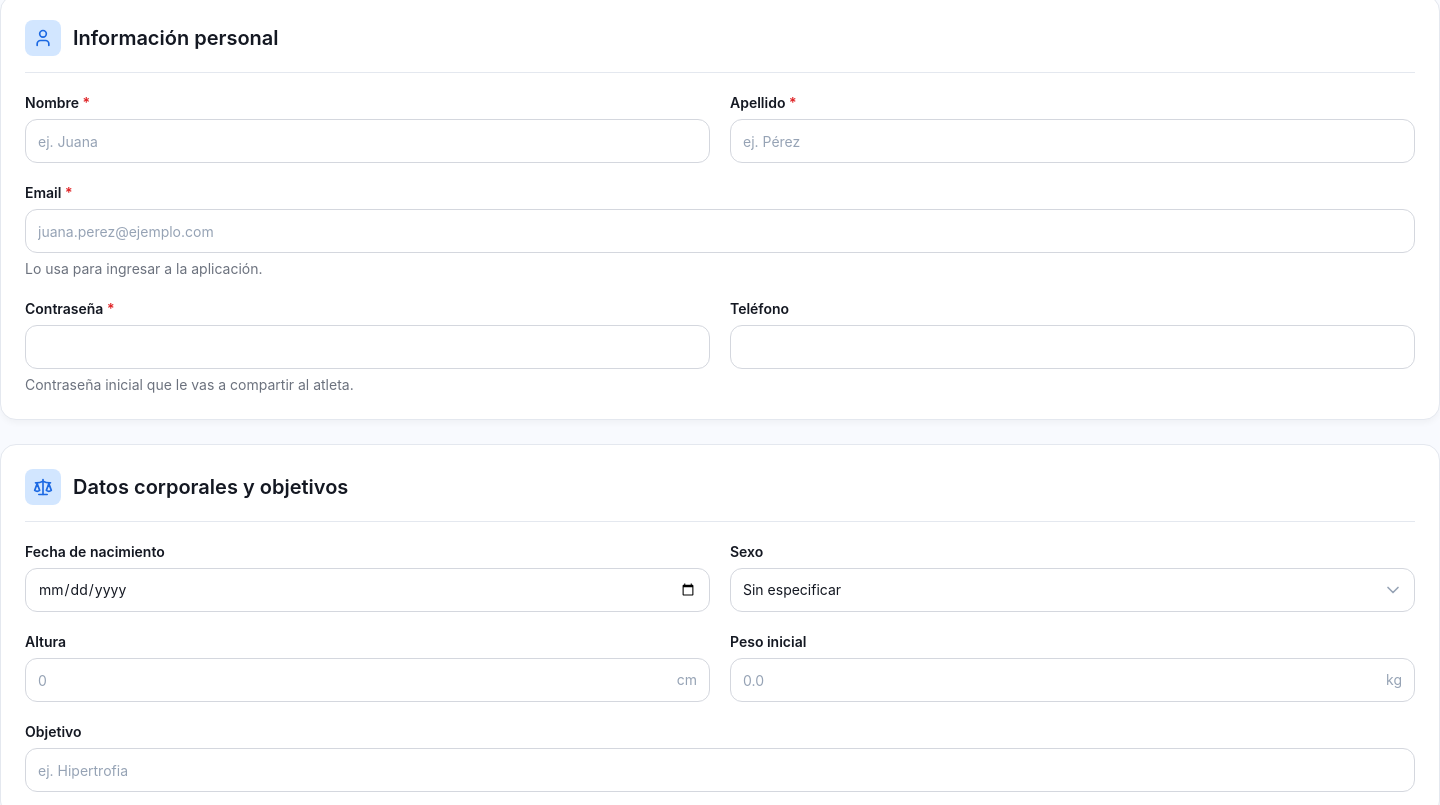
RegisterAthleteForm › deshabilita el botón mientras guarda
The width and height of the screenshot is (1440, 805).
Type " Juana " into the field labelled "Nombre *" at point(368, 141), box [25,119,710,163]
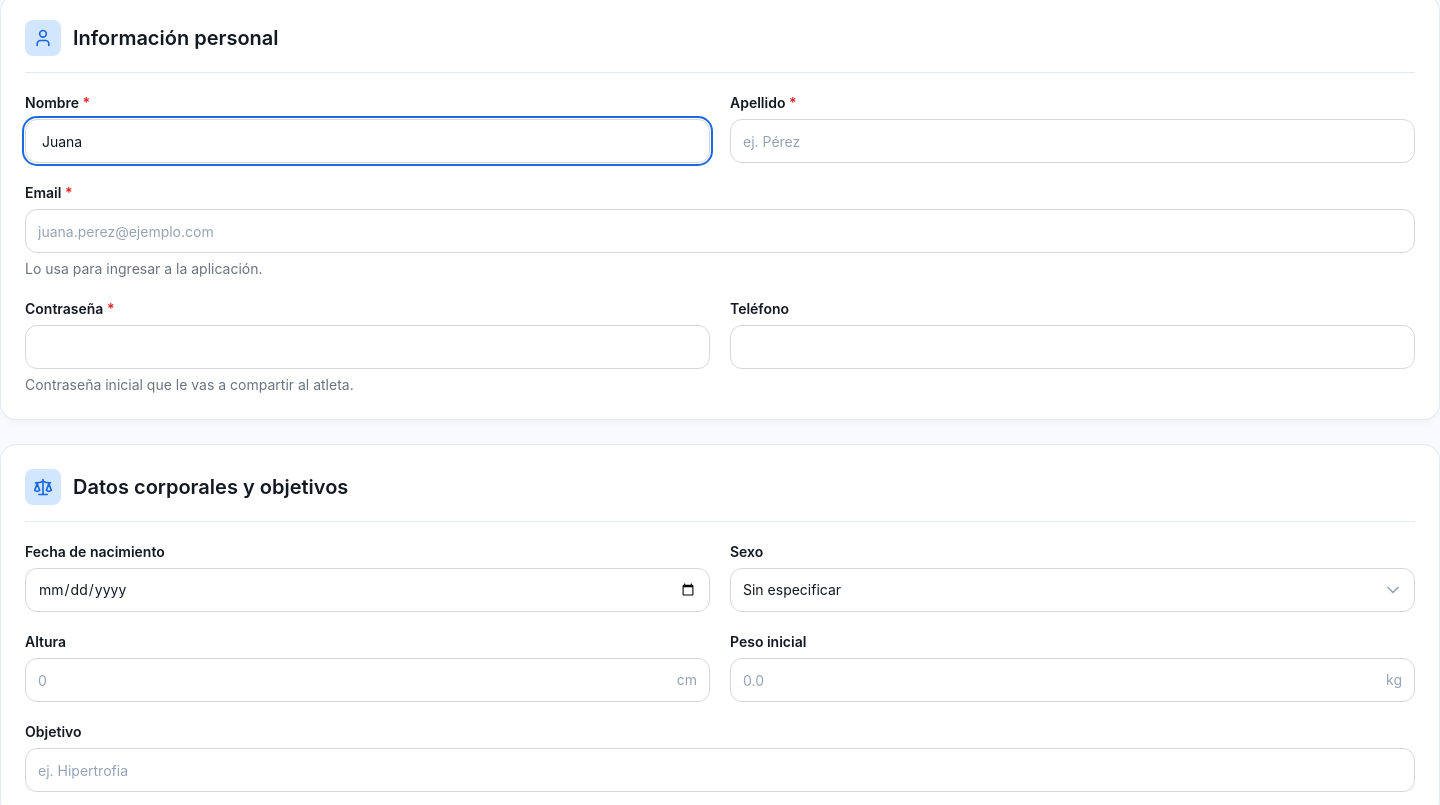
Type "Pérez" into the field labelled "Apellido *" at point(1072, 141), box [730,119,1415,163]
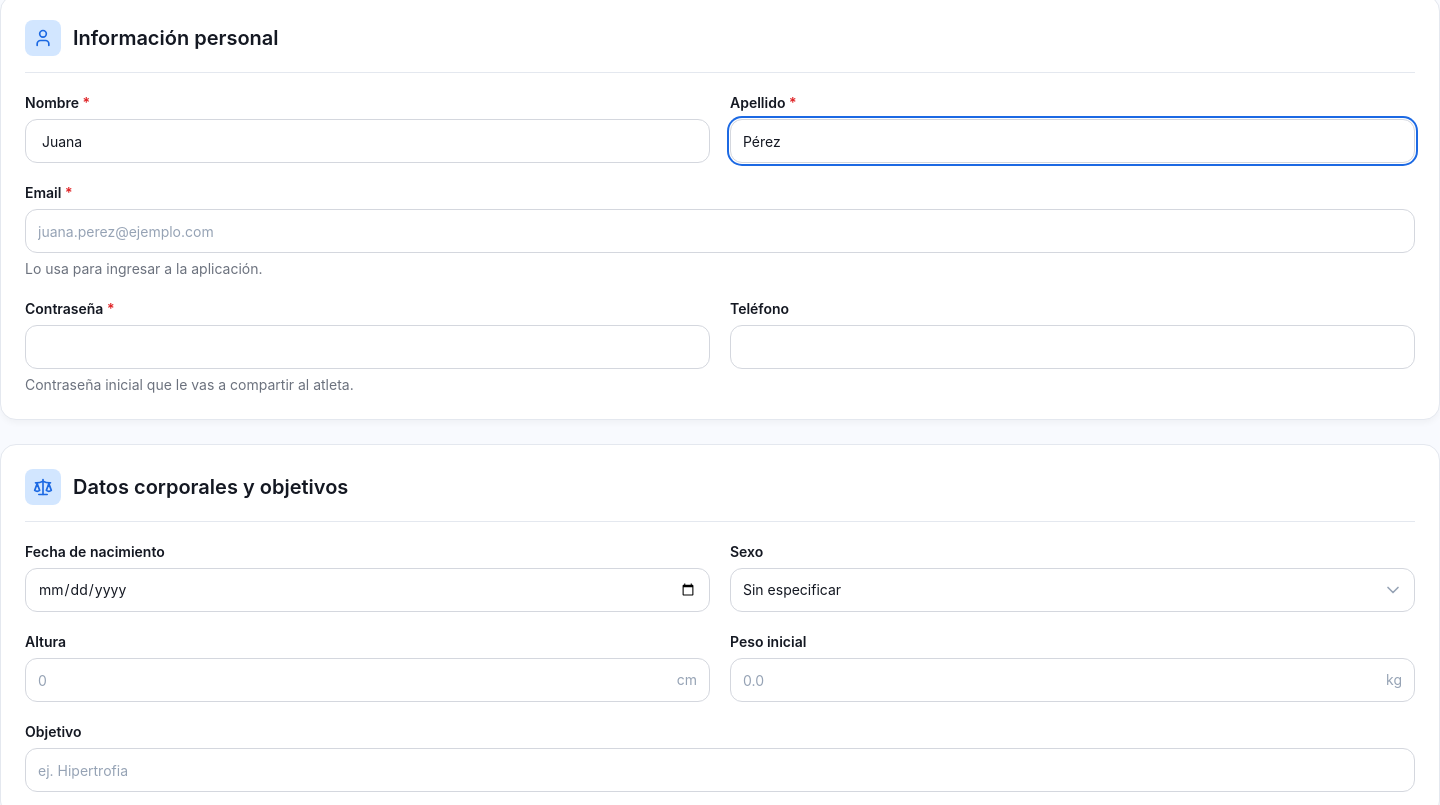
Type "juana@example.com" into the field labelled "Email *" at point(720, 231), box [25,209,1415,253]
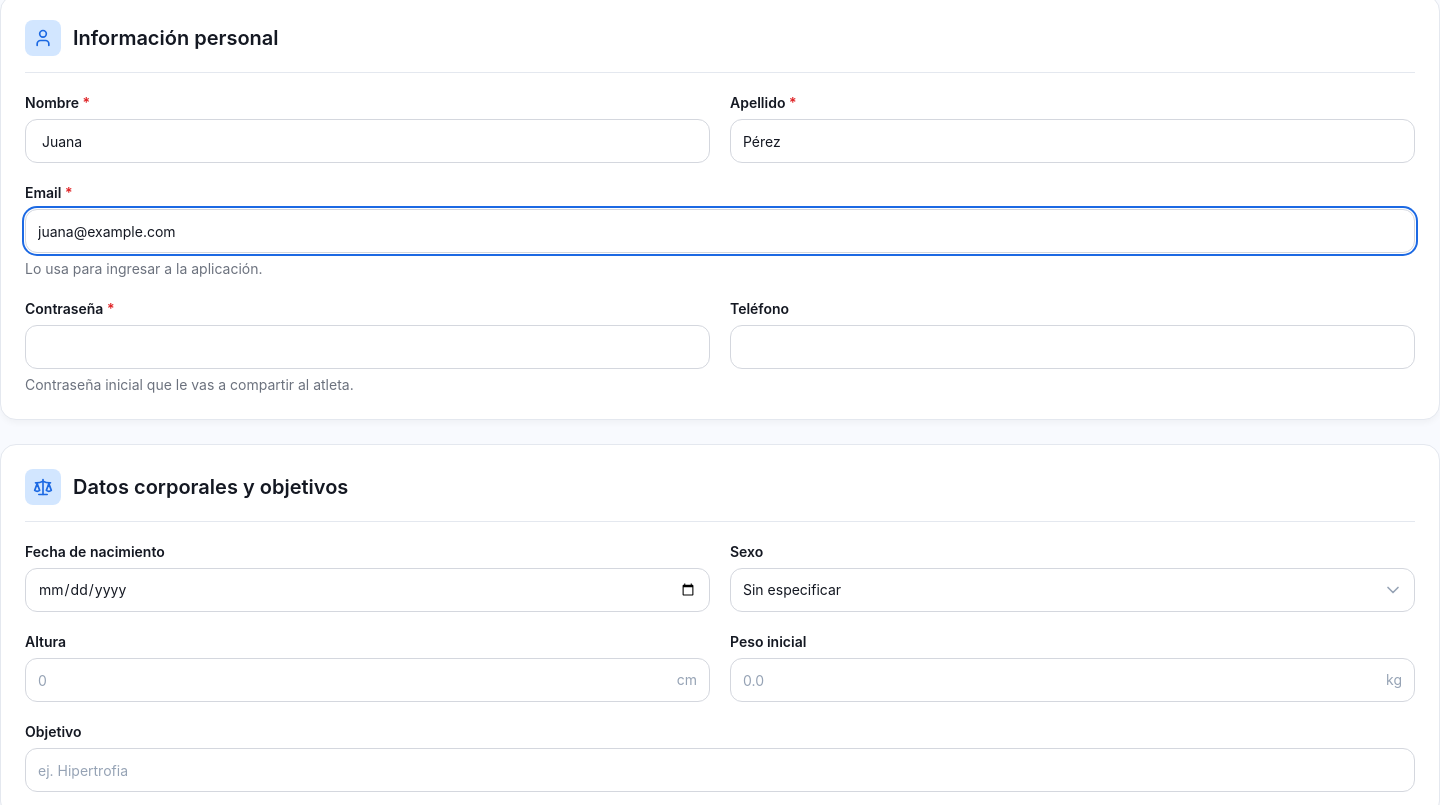
Type "12345678" into the password field labelled "Contraseña *" at point(368, 347), box [25,325,710,369]
(page scrolled)
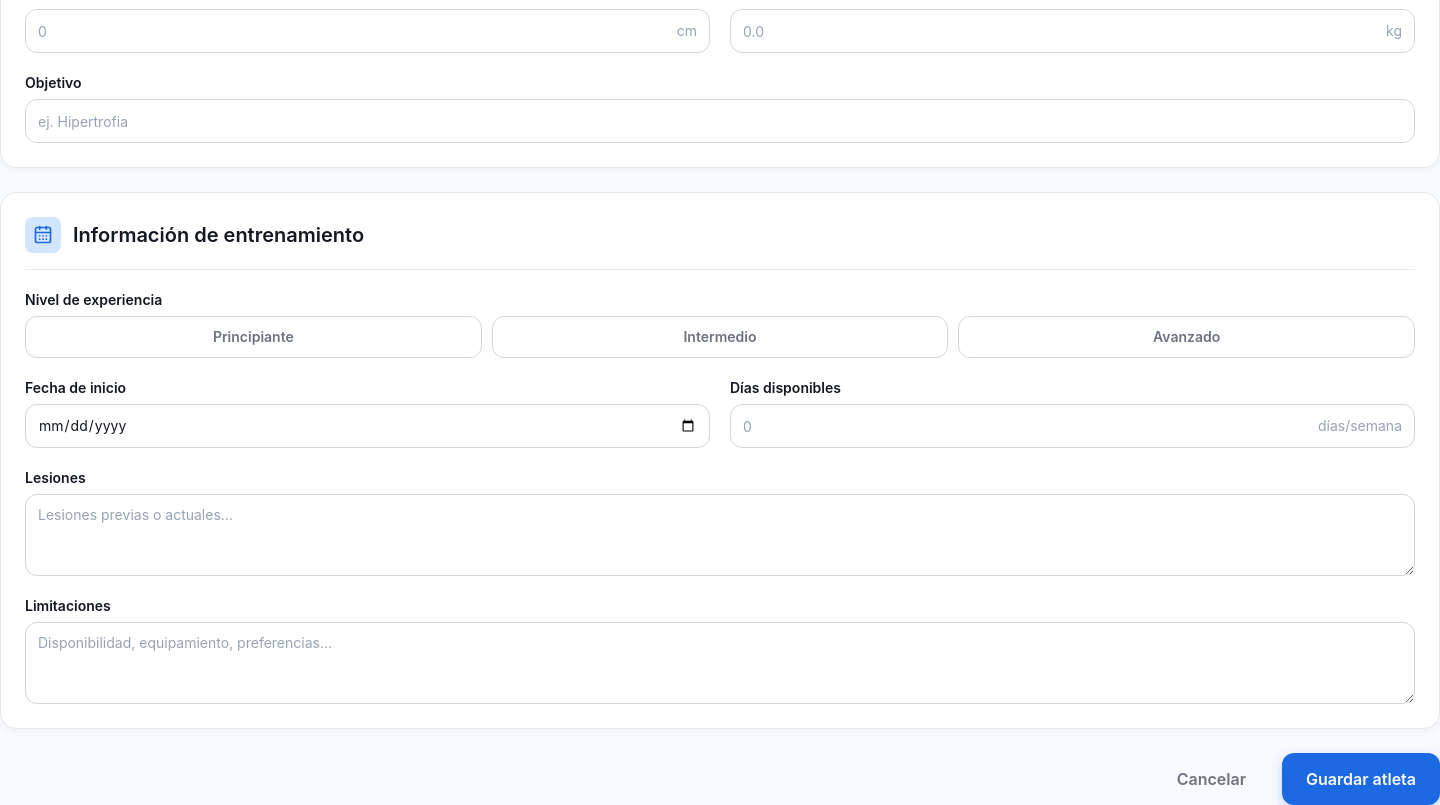
Click the button "Guardar atleta" at point(1361, 779), box [1282,753,1439,804]
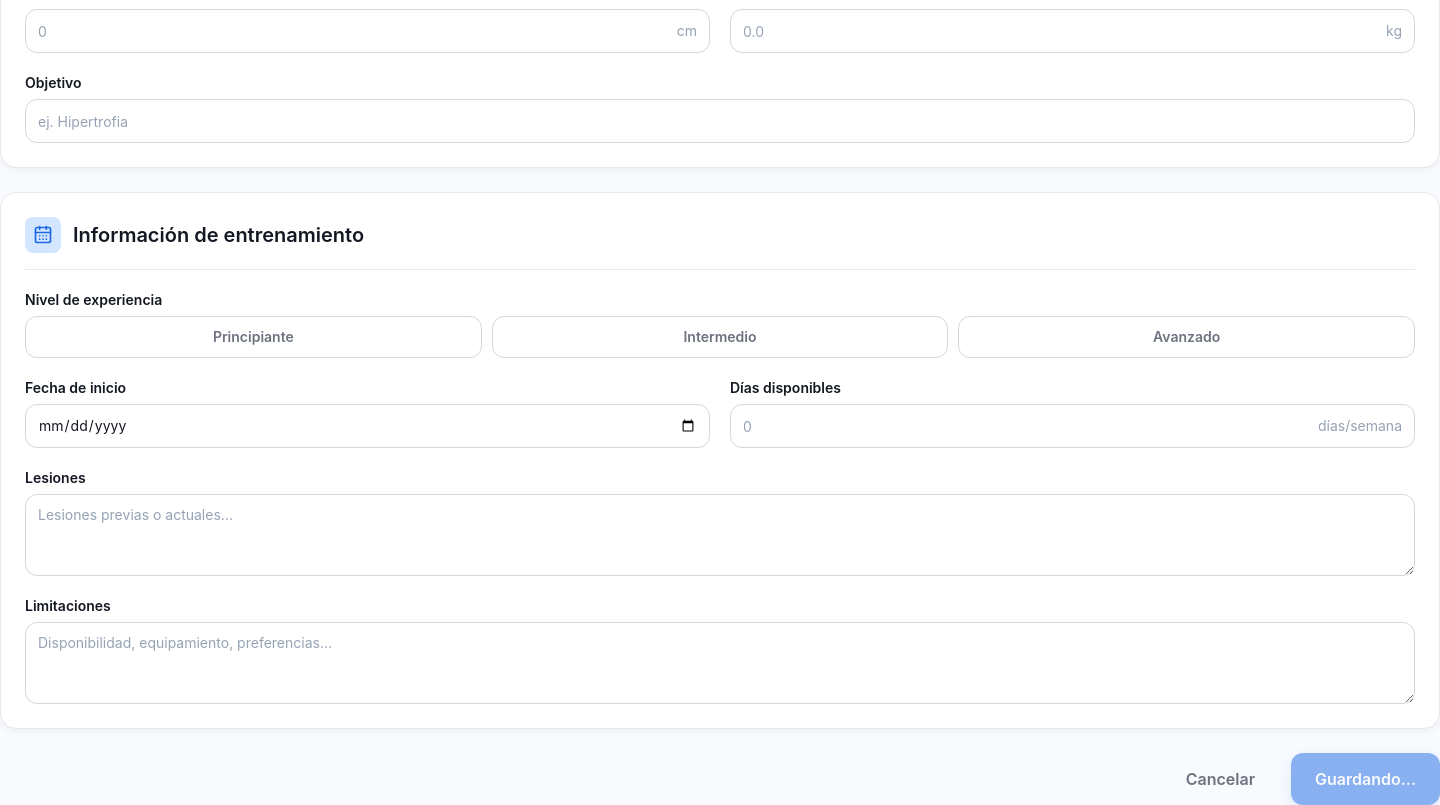
Expected: the button "Guardando..." is disabled, [1291,753,1439,804]
